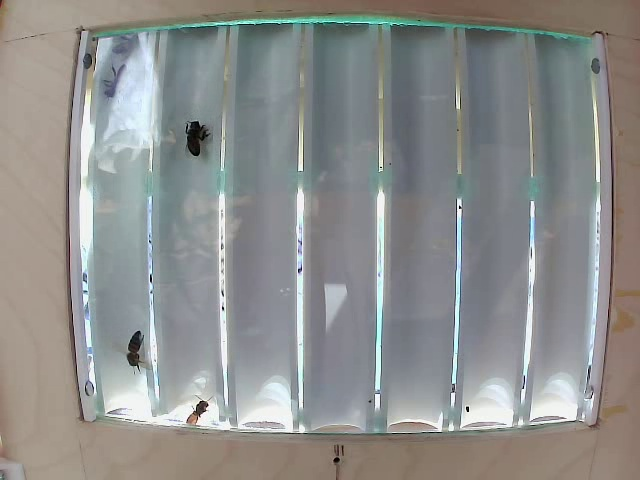bee: (116, 323, 155, 379), (182, 105, 209, 177)
